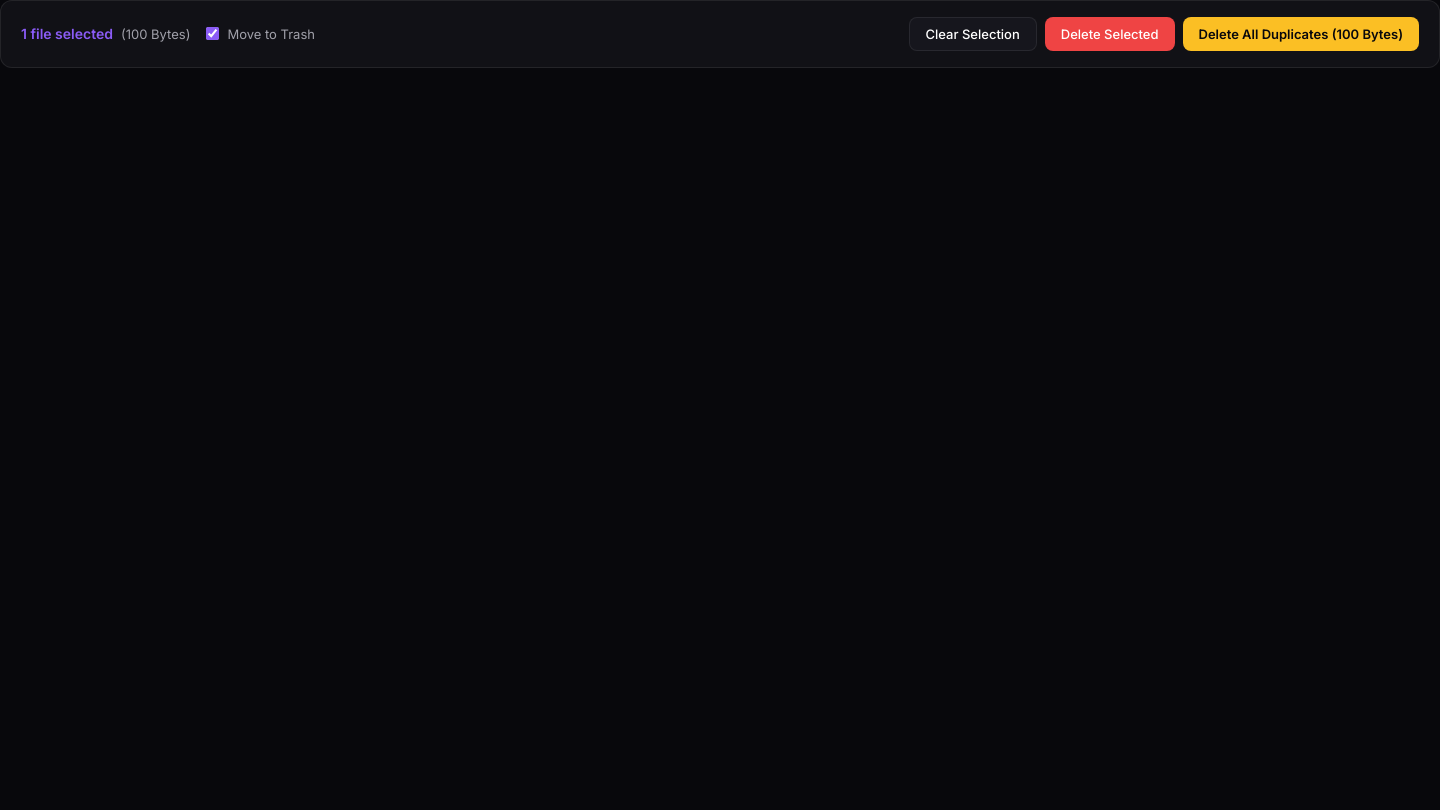
Test: DeleteControls › should complete deletion flow and show success message
Click the button "Delete Selected" at coordinates (1110, 34), box [1045,17,1175,51]
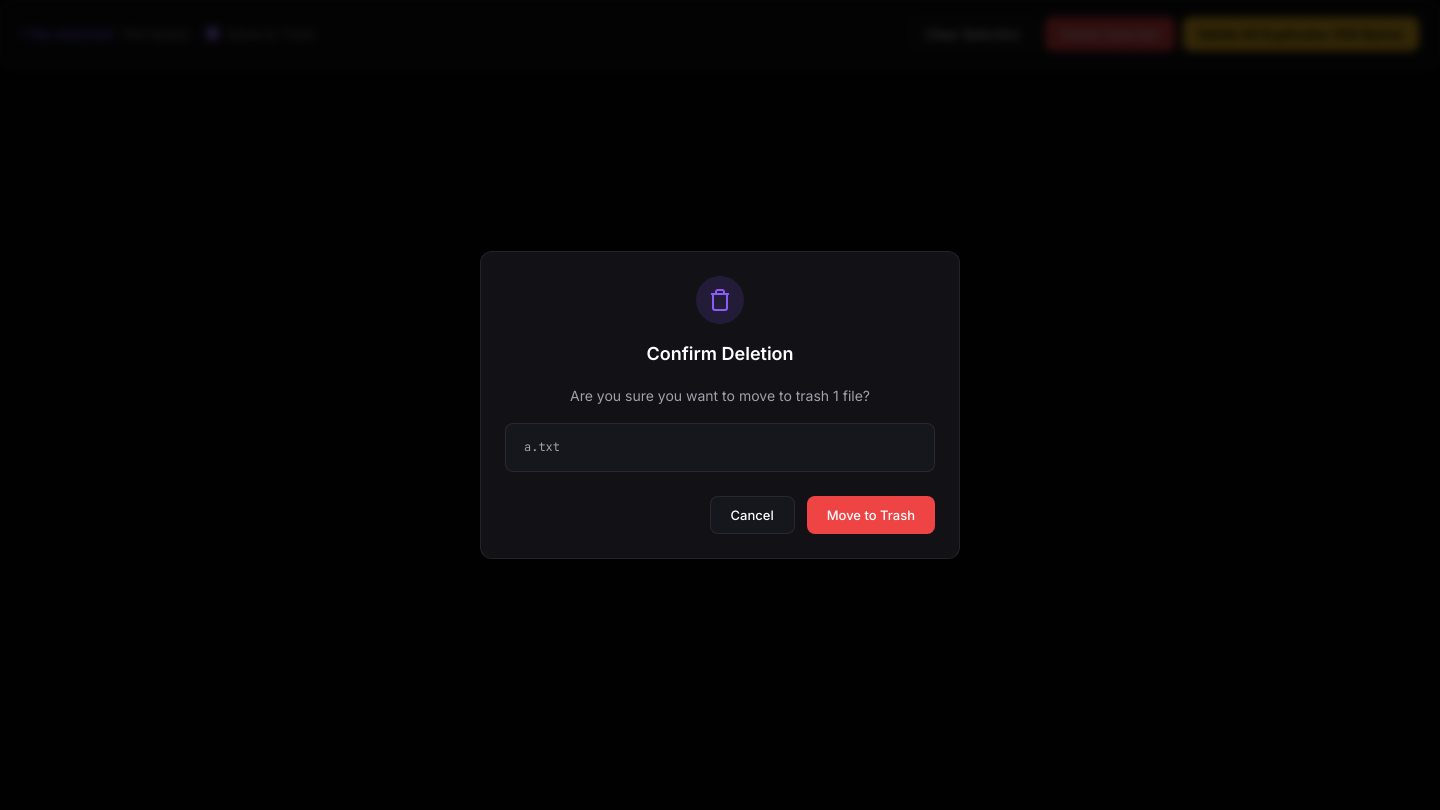
Note: Confirm dialog
Click the button "Move to Trash" at coordinates (871, 515), box [807,496,935,534]
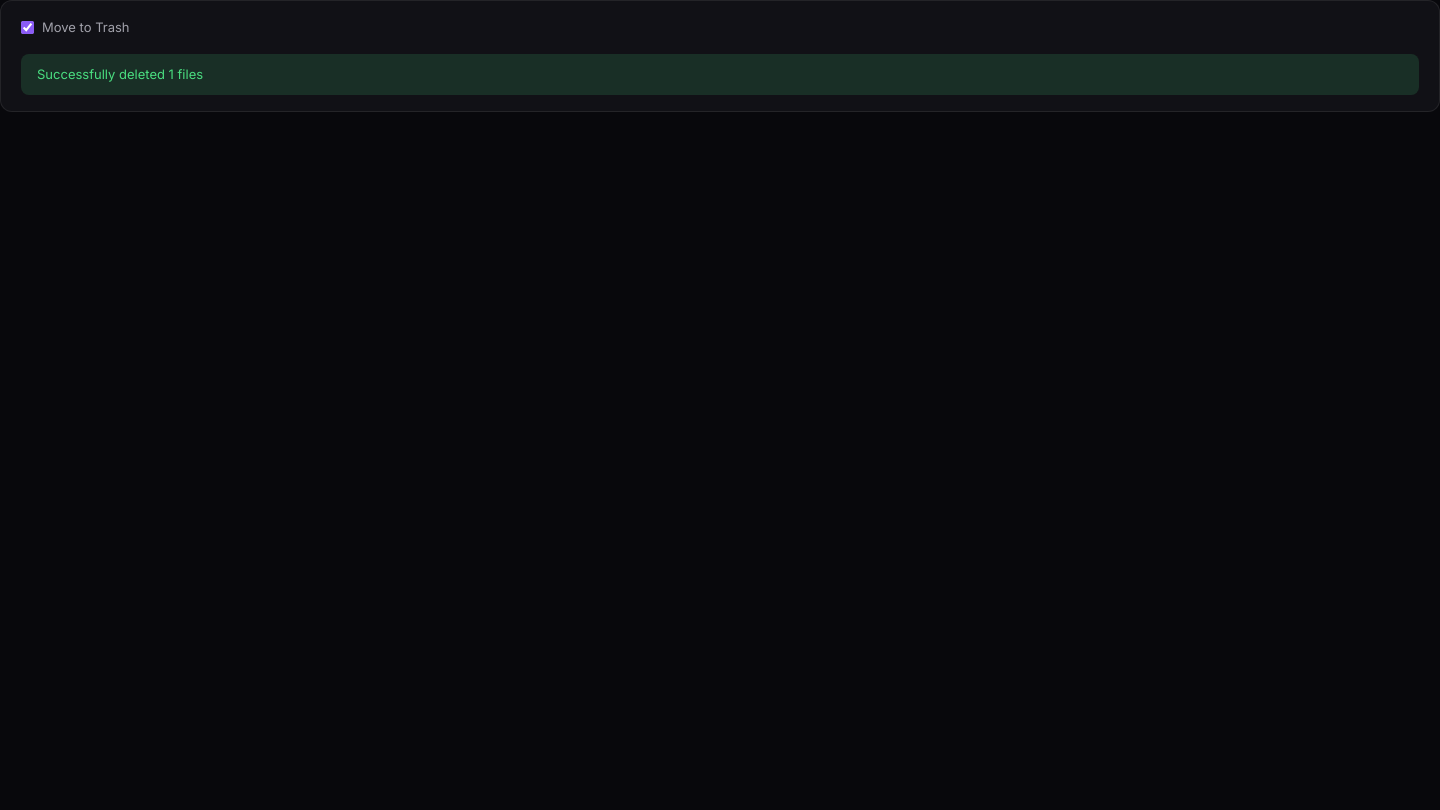
Now the text "Successfully deleted 1 files" is shown, box [21,54,1419,95]
